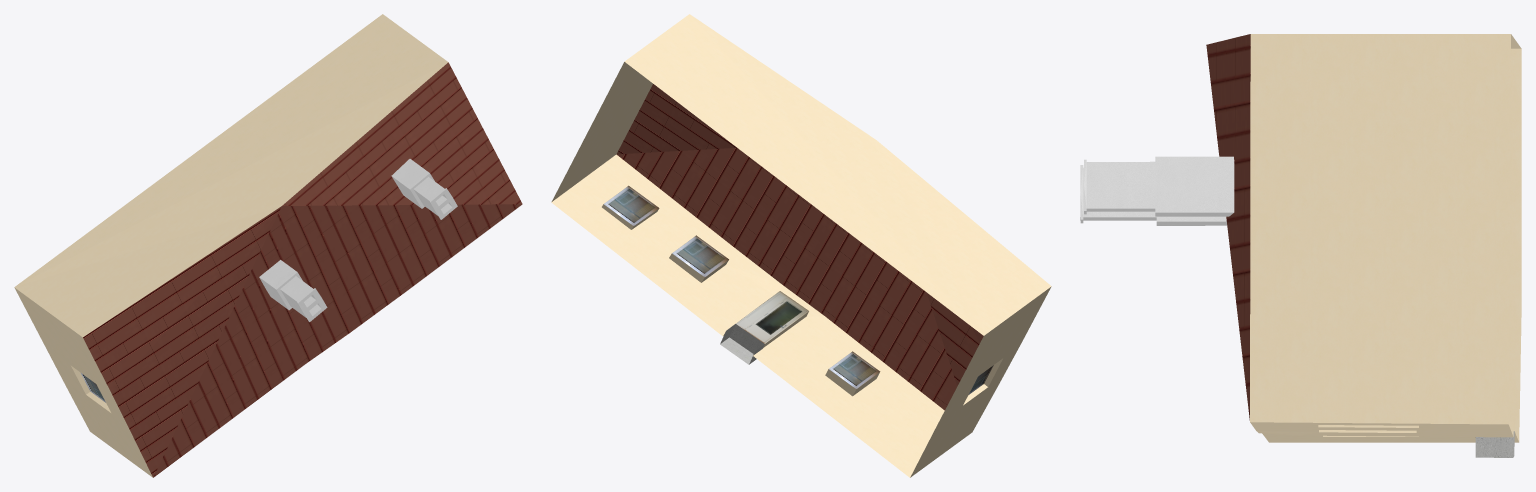
The picture shows the model from 3 angles, left to right: view 1: azimuth 30°, elevation 25°; view 2: azimuth 150°, elevation 25°; view 3: azimuth 270°, elevation 25°; orthographic projection. The views are drawn at different scales.
Parts seen in each view (by area): view 1: Tp12_a_polySurface15; view 2: Tp12_a_polySurface15; view 3: Tp12_a_polySurface15.
Boxes of the visible parts, x1,y1,x2,y2 form: Tp12_a_polySurface15: [14, 14, 522, 477]; Tp12_a_polySurface15: [551, 14, 1051, 477]; Tp12_a_polySurface15: [1080, 34, 1521, 457].
Bounding box in the file's own units: 13.75 × 10.39 × 6.03.
